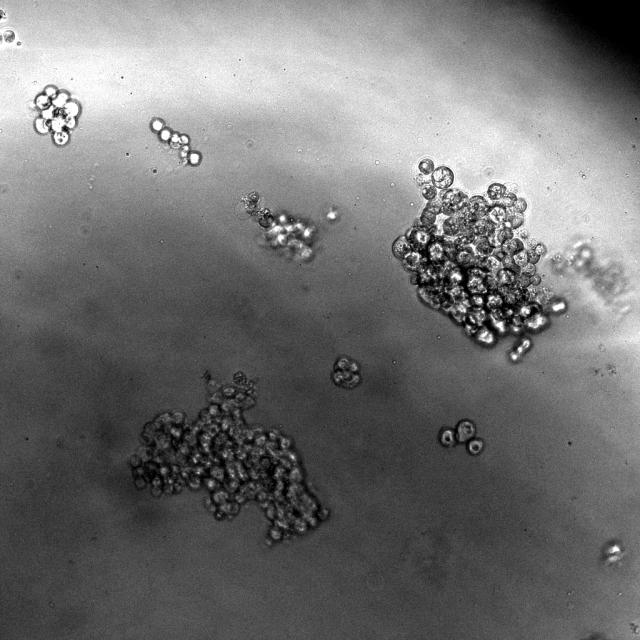organoid: (393, 155, 569, 365), (128, 369, 331, 546), (241, 192, 315, 261), (34, 85, 81, 146), (150, 118, 202, 166), (438, 420, 484, 456), (331, 355, 361, 390), (0, 28, 16, 44), (0, 7, 7, 22), (16, 41, 22, 46)
